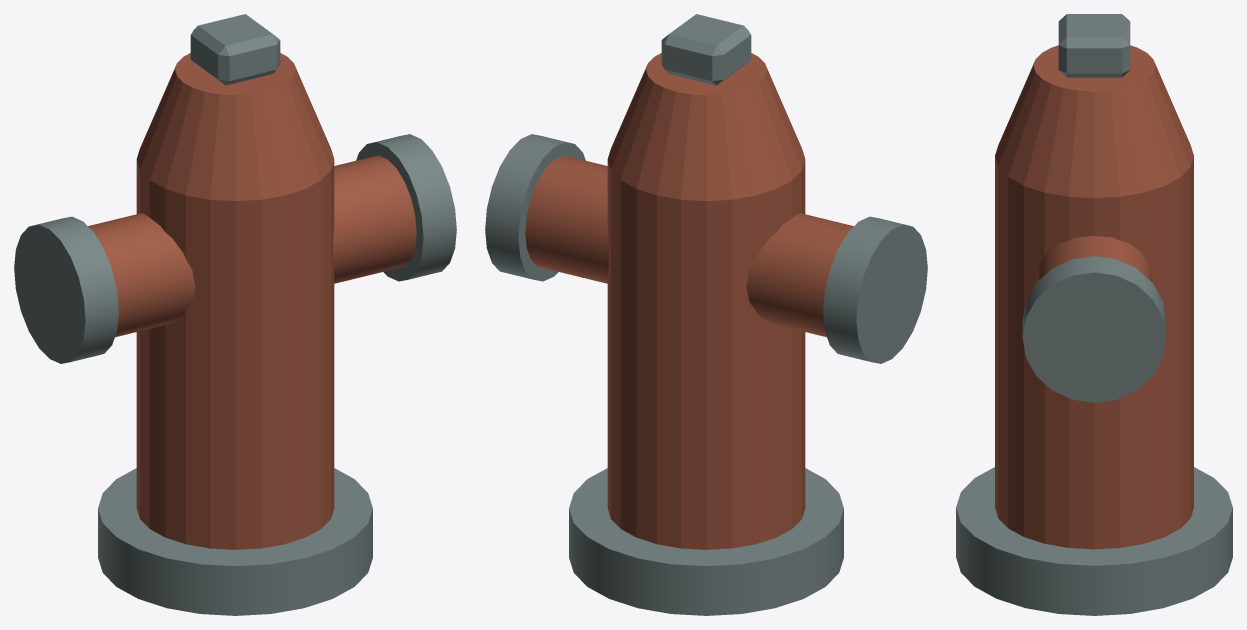
The model's file is 034_generic_fire_hydrant.glb.
The picture shows the model from 3 angles, left to right: view 1: azimuth 30°, elevation 25°; view 2: azimuth 150°, elevation 25°; view 3: azimuth 270°, elevation 25°; orthographic projection.
Visible parts, largest first — view 1: Hydrant_short_body, Hydrant_foot, PRP-034_caps, PRP-034_outlets, Hydrant_top_nut; view 2: Hydrant_short_body, Hydrant_foot, PRP-034_caps, PRP-034_outlets, Hydrant_top_nut; view 3: Hydrant_short_body, Hydrant_foot, PRP-034_caps, Hydrant_top_nut, PRP-034_outlets.
Boxes of the visible parts, <box> form: Hydrant_short_body: <box>136,53,334,549</box>; Hydrant_foot: <box>98,468,372,615</box>; PRP-034_caps: <box>14,134,456,363</box>; PRP-034_outlets: <box>88,155,416,337</box>; Hydrant_top_nut: <box>190,14,280,85</box>; Hydrant_short_body: <box>607,53,805,549</box>; Hydrant_foot: <box>569,468,843,615</box>; PRP-034_caps: <box>485,134,927,363</box>; PRP-034_outlets: <box>525,155,853,337</box>; Hydrant_top_nut: <box>661,14,751,85</box>; Hydrant_short_body: <box>995,45,1193,549</box>; Hydrant_foot: <box>956,467,1232,615</box>; PRP-034_caps: <box>1022,256,1166,402</box>; Hydrant_top_nut: <box>1058,14,1130,77</box>; PRP-034_outlets: <box>1036,236,1152,282</box>.
Bounding box in the file's own units: 0.78 × 1.06 × 0.5.
